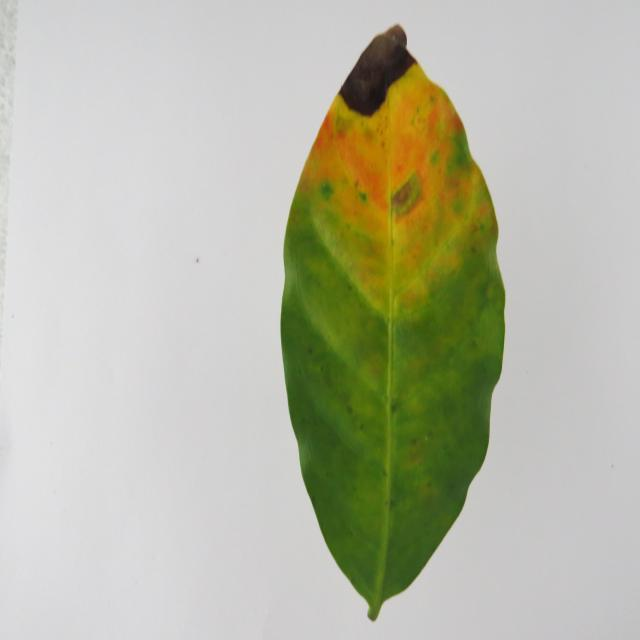DeficienciaNutricional-Fosforo: (281, 25, 505, 620)
